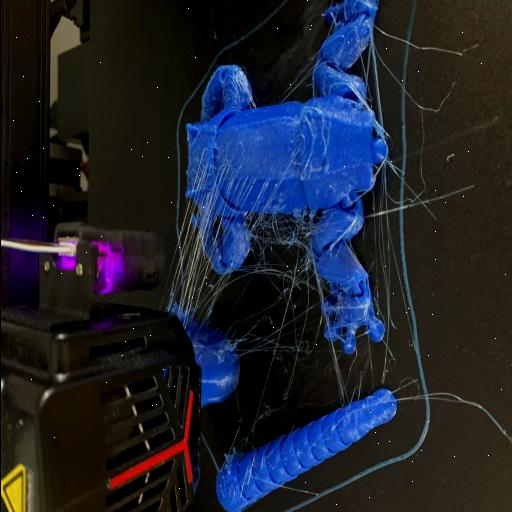stringing: (160, 190, 230, 326), (238, 208, 314, 301), (228, 292, 314, 374), (319, 328, 384, 412), (365, 180, 399, 306)
